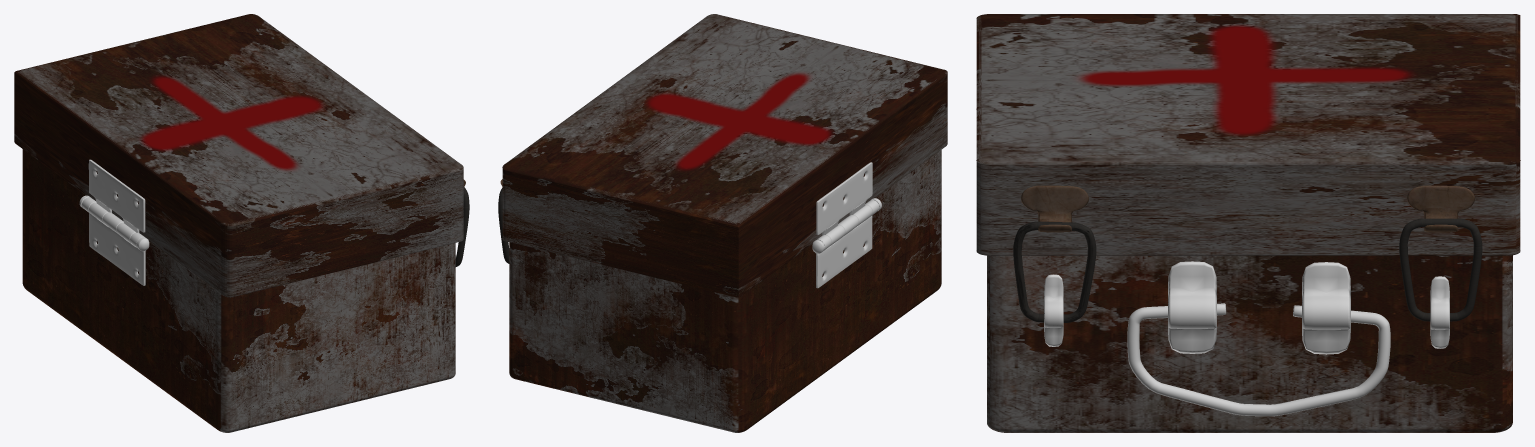
The model's file is medkit_v2.fbx.
The picture shows the model from 3 angles, left to right: view 1: azimuth 30°, elevation 25°; view 2: azimuth 150°, elevation 25°; view 3: azimuth 270°, elevation 25°; orthographic projection. The views are drawn at different scales.
Parts seen in each view (by area): view 1: Lid, Box, Hindge, Circle.001, strap_1; view 2: Lid, Box, Hindge, Circle.001; view 3: Lid, Box, handle, middle_hodler_2, middle_holder_1, strap_2, strap_1, up_holder_1, up_holder_2, down_holder_2, down_holder_1.
Boxes of the visible parts, x1,y1,x2,y2 form: Lid: (14,14,463,297); Box: (22,149,455,432); Hindge: (88,159,145,242); Circle.001: (82,197,145,285); strap_1: (455,186,469,266); Lid: (502,14,947,297); Box: (509,150,941,432); Hindge: (816,162,872,245); Circle.001: (815,200,879,288); Lid: (976,14,1520,255); Box: (987,255,1512,432); handle: (1127,303,1390,416); middle_hodler_2: (1302,262,1350,354); middle_holder_1: (1168,261,1216,353); strap_2: (1399,218,1482,321); strap_1: (1013,221,1096,322); up_holder_1: (1021,185,1088,232); up_holder_2: (1407,185,1474,232); down_holder_2: (1430,276,1449,348); down_holder_1: (1044,274,1063,346).
Bounding box in the file's own units: 231 × 174 × 310.
